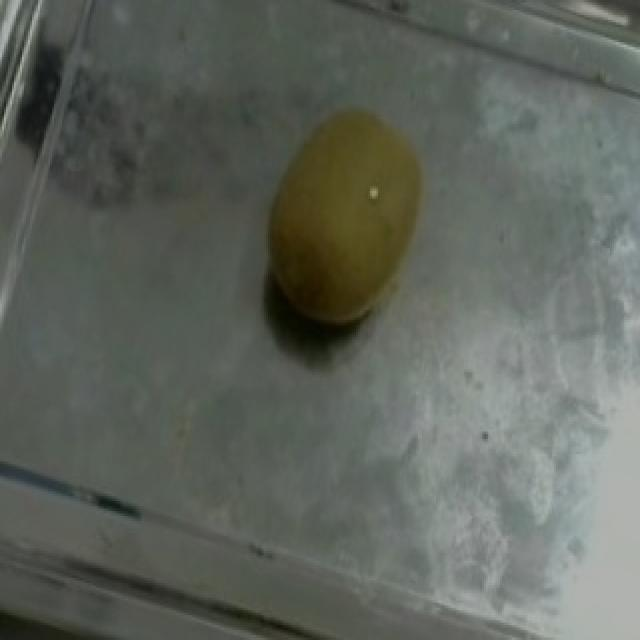Fruit: (224, 77, 466, 367)
